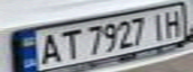2: (115, 17, 139, 50)
7: (81, 22, 106, 55), (130, 14, 151, 45)
9: (100, 20, 121, 53)
A: (33, 29, 63, 65)
H: (160, 7, 187, 38)
I: (145, 10, 172, 40)
T: (54, 27, 81, 60)
